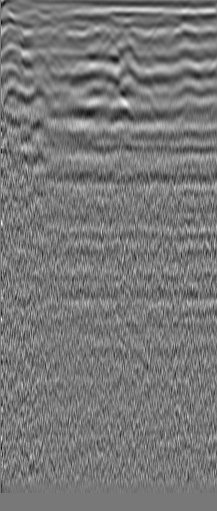오수: (18, 26, 38, 46)
우수: (148, 27, 168, 47)
